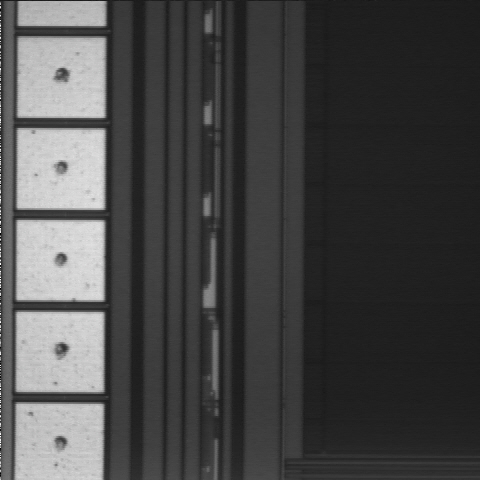pad: (17, 129, 105, 210), (18, 38, 105, 118), (17, 220, 104, 300), (17, 312, 103, 392)
